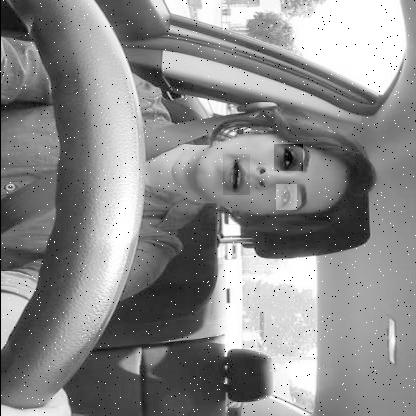seatbelt: (0, 106, 378, 242)
